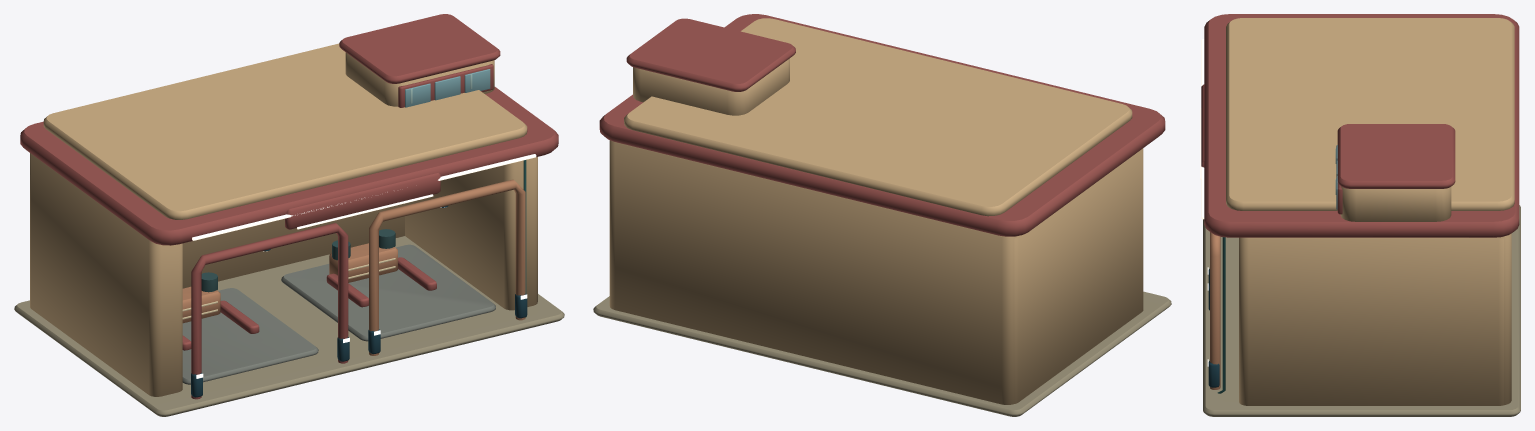
File: route66_restoration.glb
The picture shows the model from 3 angles, left to right: view 1: azimuth 30°, elevation 25°; view 2: azimuth 150°, elevation 25°; view 3: azimuth 270°, elevation 25°; orthographic projection. The views are drawn at different scales.
Parts seen in each view (by area): view 1: Route66Restoration; view 2: Route66Restoration; view 3: Route66Restoration.
Part boxes in pixels (box(x1,y1,x2,y2)): Route66Restoration: box(14, 14, 564, 416); Route66Restoration: box(593, 14, 1171, 416); Route66Restoration: box(1200, 14, 1520, 416).
Size of the model in its own units: 10.58 by 5.51 by 6.78.
